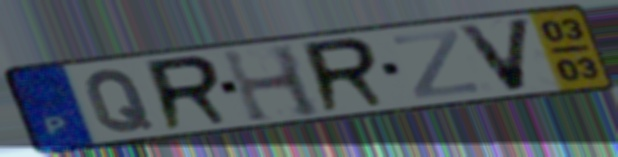H: (217, 42, 328, 126)
Q: (81, 67, 157, 135)
R: (142, 52, 237, 134), (299, 34, 394, 116)
V: (452, 15, 537, 94)
Z: (389, 27, 483, 101)
